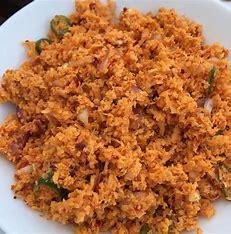Pol Sambol: (10, 5, 221, 225)
